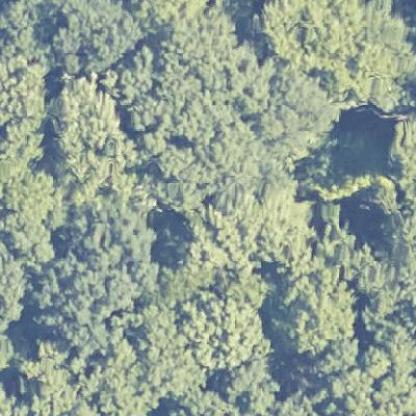tree-top: (42, 75, 136, 201), (255, 0, 372, 71), (44, 0, 144, 74)
